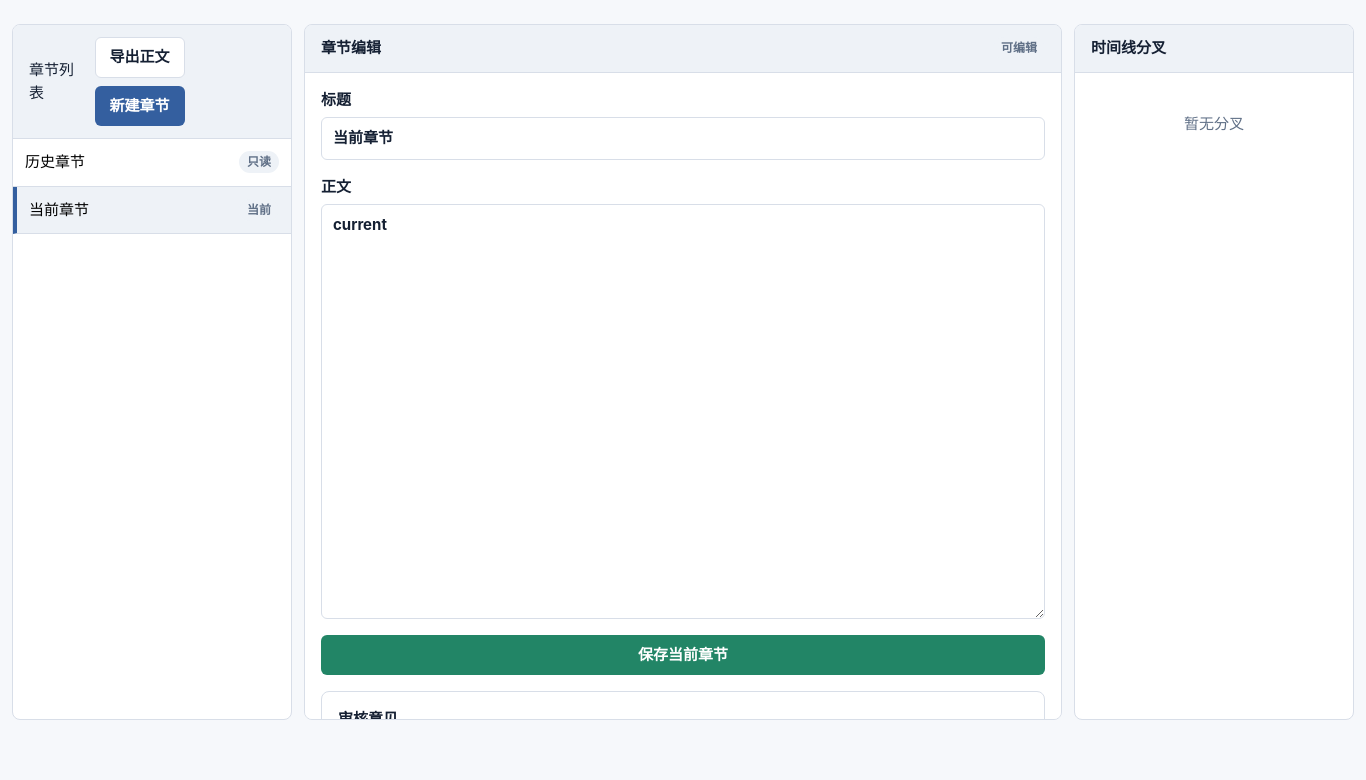
WritingView › shows branch controls when a historical chapter is selected
Click the button with test id "chapter-item" showing "历史章节 只读" at (55, 162), box [13, 139, 291, 186]
(page scrolled)
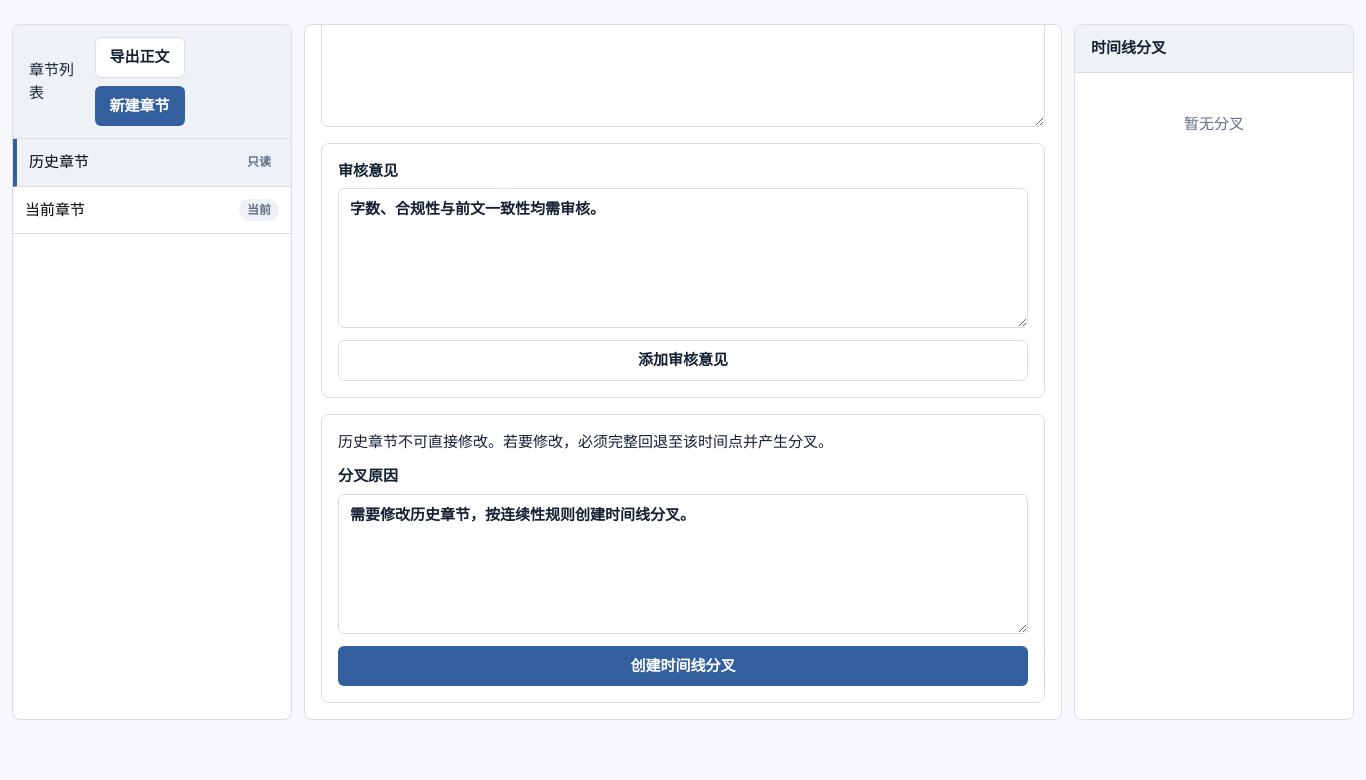
expect the element with test id "branch-box" is shown: met, box [321, 414, 1045, 703]
expect the text "历史章节不可直接修改" is shown: met, box [338, 432, 833, 451]
